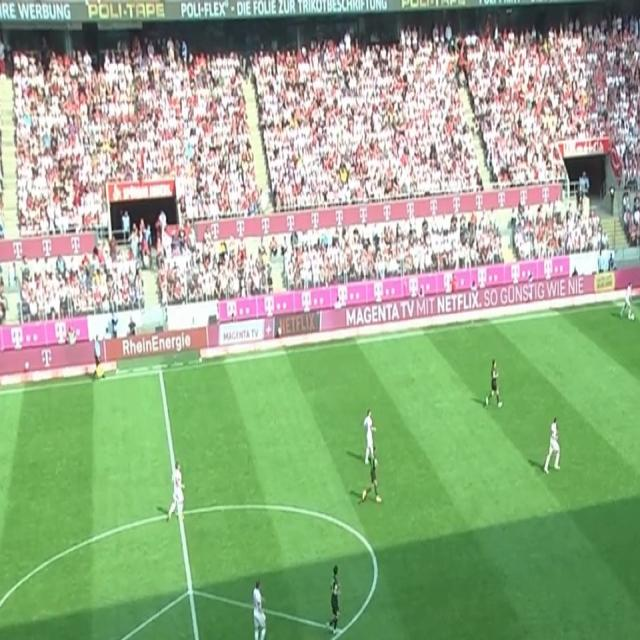ball: (630, 312, 636, 321)
